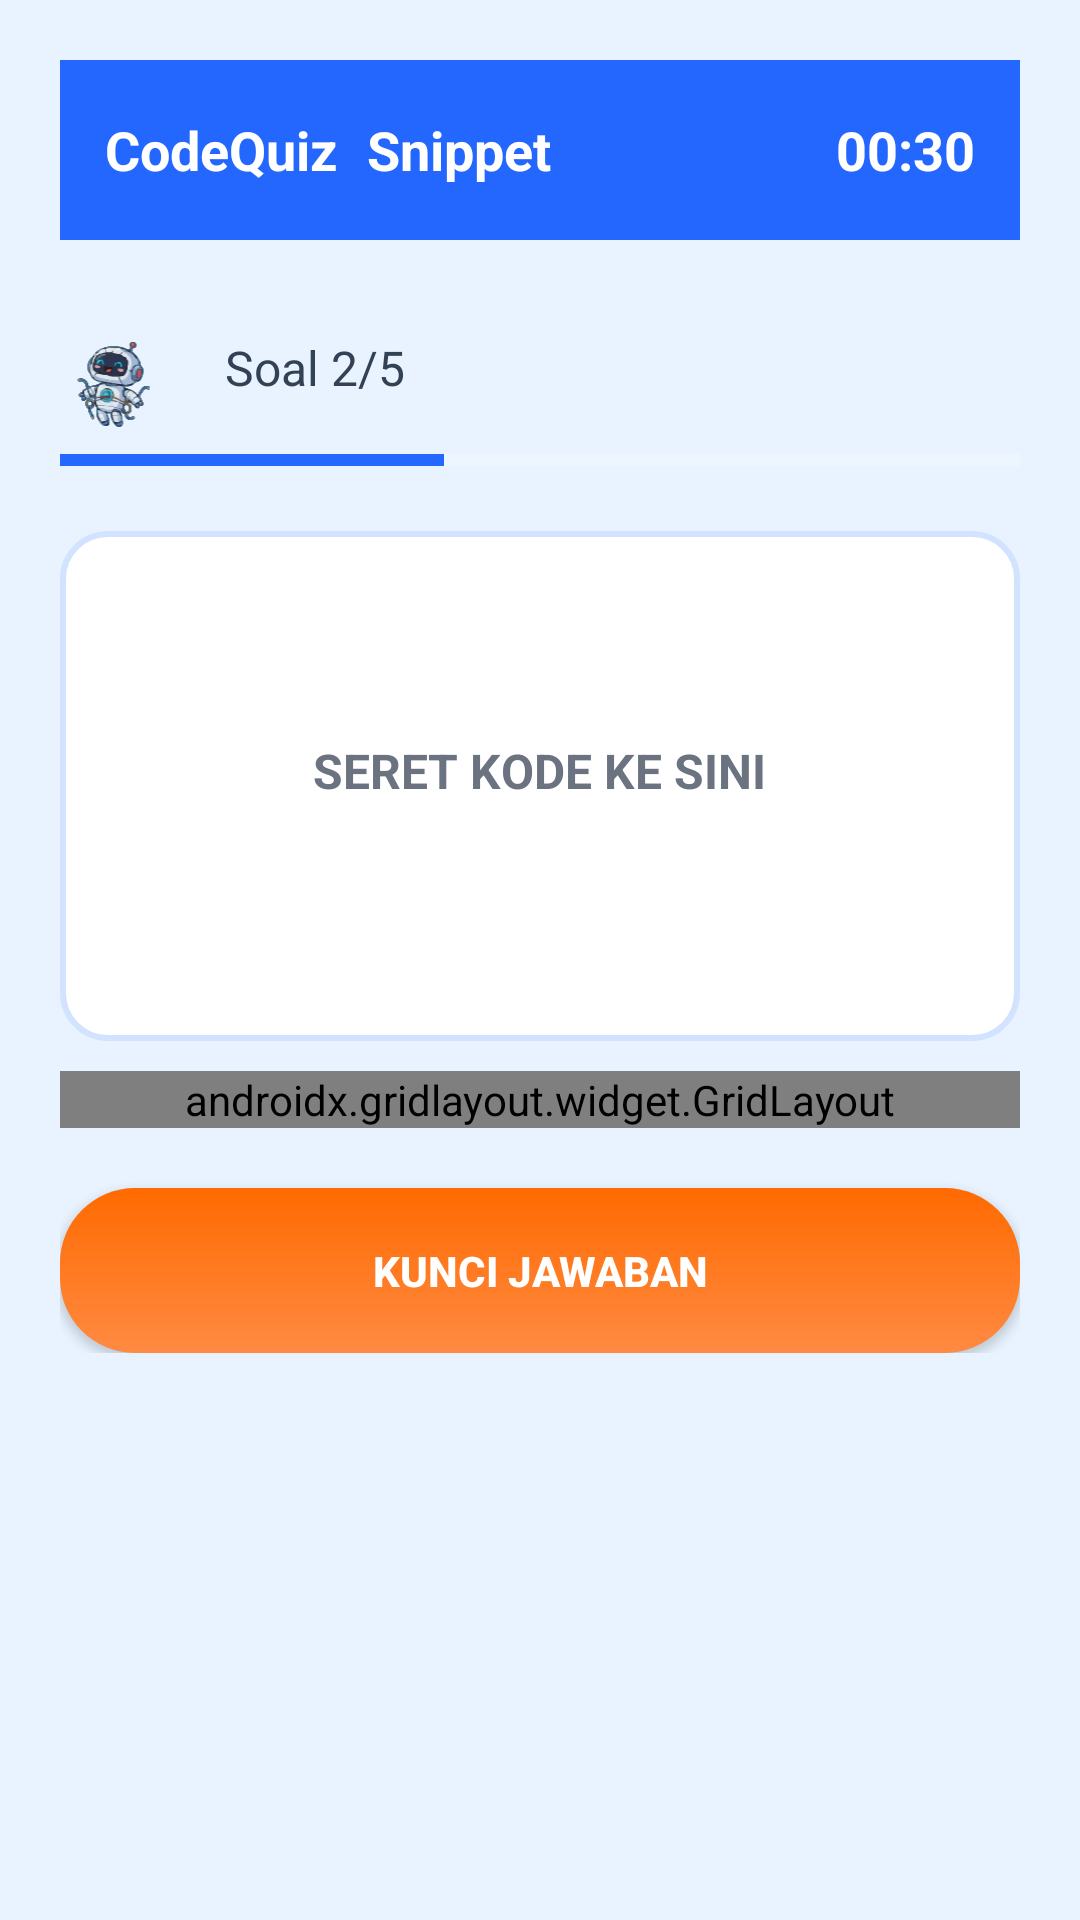

Locate icon controls on the screen. Image size 1080x1920, boxes as (x1, y1, x2, y2).
robot quiz: (77, 342, 150, 427)
